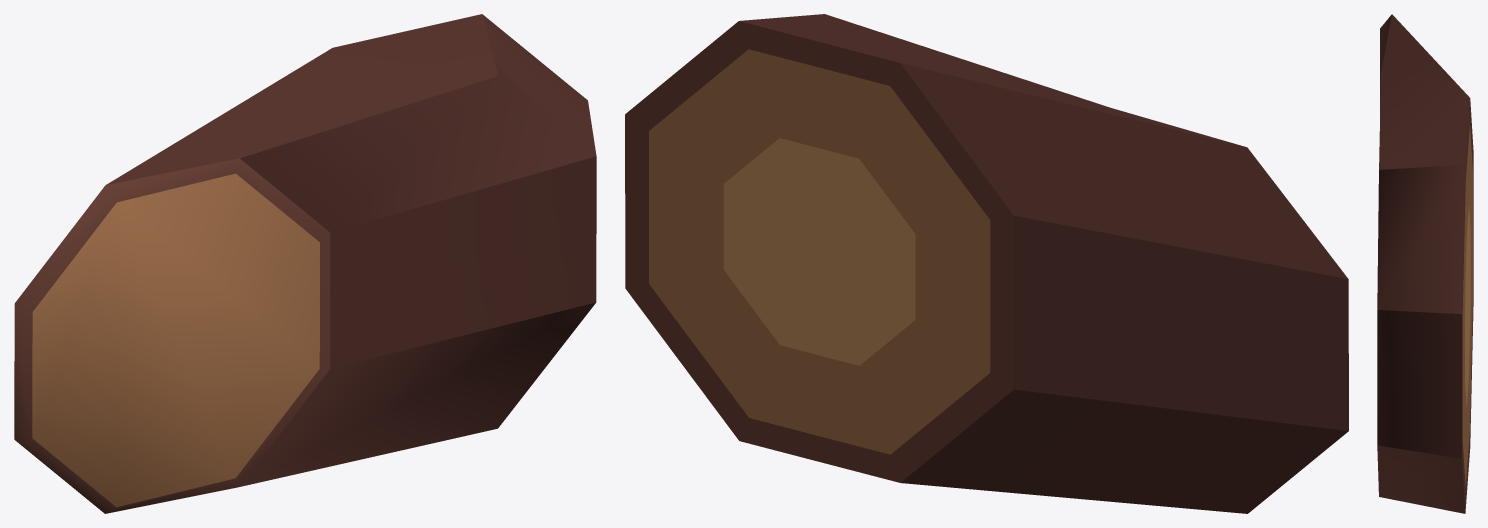
File: icon_wood.fbx
3 renders of one model, left to right at view 1: azimuth 30°, elevation 25°; view 2: azimuth 150°, elevation 25°; view 3: azimuth 270°, elevation 25°, orthographic. The views are drawn at different scales.
Parts seen in each view (by area): view 1: icon_wood; view 2: icon_wood; view 3: icon_wood.
Part boxes in pixels (left/top/right/bottom): icon_wood: left=14, top=14, right=596, bottom=513; icon_wood: left=625, top=14, right=1348, bottom=513; icon_wood: left=1377, top=14, right=1473, bottom=513.
Size of the model in its own units: 42.86 by 25.24 by 6.31.
